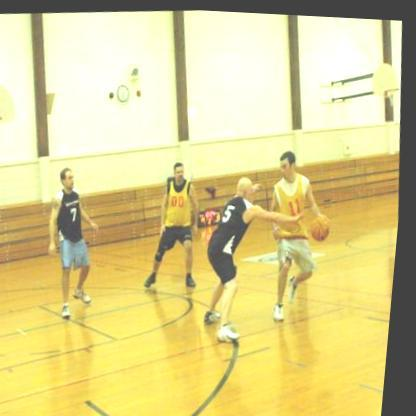basketball: (312, 210, 337, 238)
rim: (386, 82, 402, 92), (0, 114, 6, 125)
